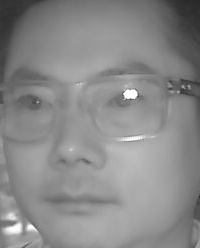eye: (14, 94, 51, 112)
glass: (79, 70, 169, 143), (2, 79, 59, 144)
mouth: (43, 185, 114, 222)
